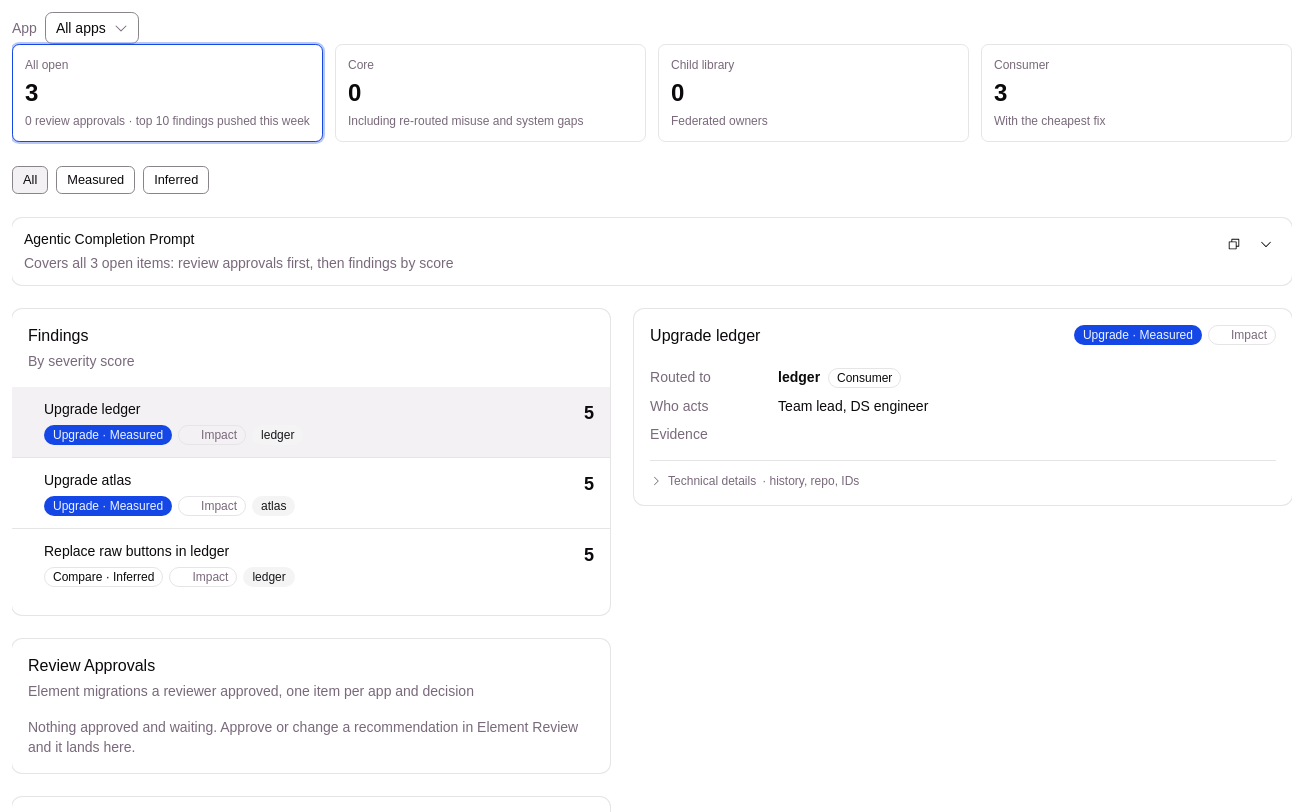
it: Actions: the list, the scope tiles and the counts follow the app; the prompt says it isn't split
Select "atlas" in the dropdown named "App" at (92, 28), box [45,12,139,44]
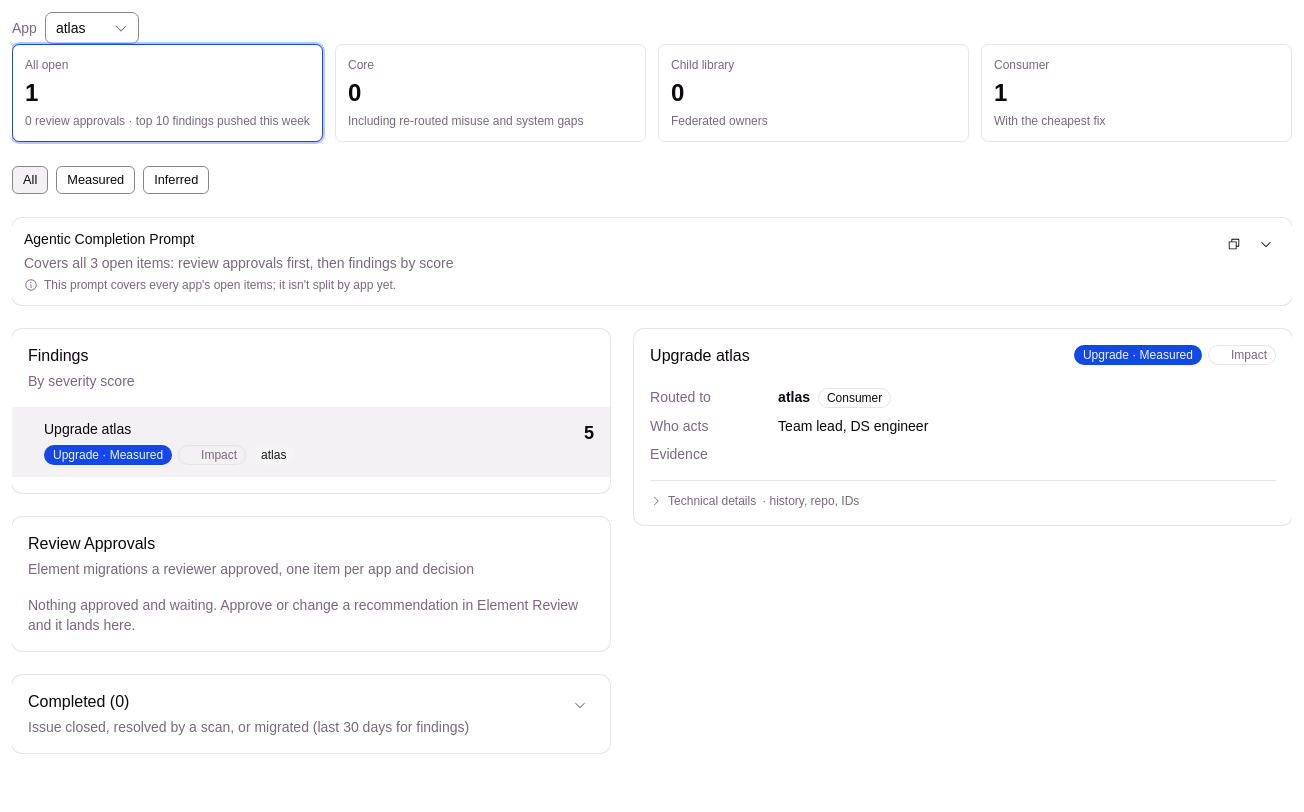
Check: the text "Upgrade ledger" is gone
Check: the text "Replace raw buttons" is gone
Check: the text "isn't split by app yet" is shown, box [44,278,396,292]
